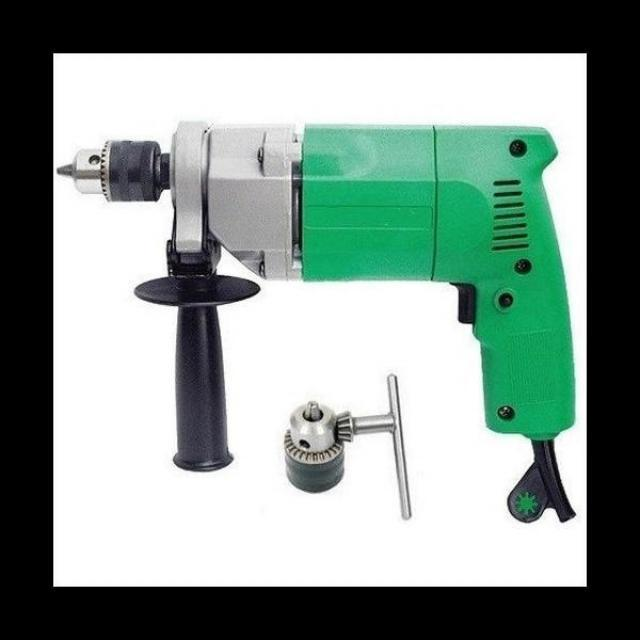drill: (55, 120, 576, 525), (283, 400, 345, 494)
